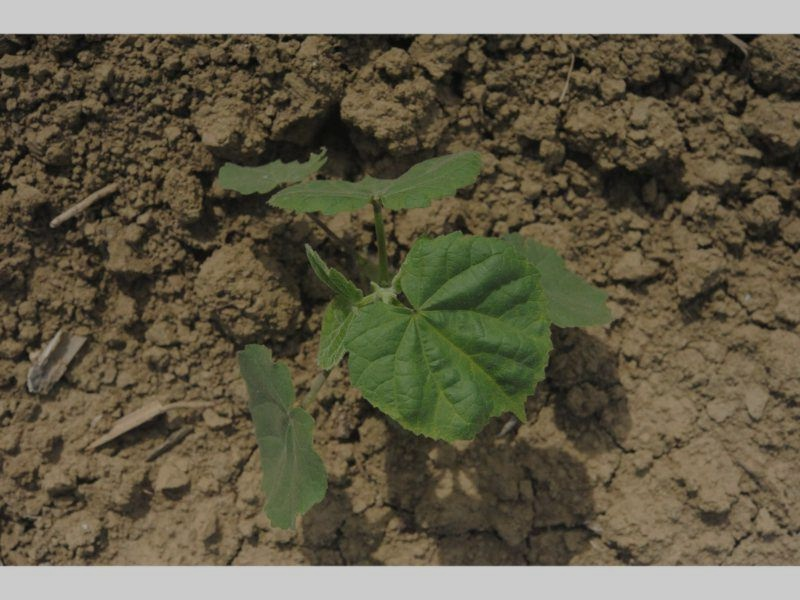velvet: (216, 147, 613, 529)
